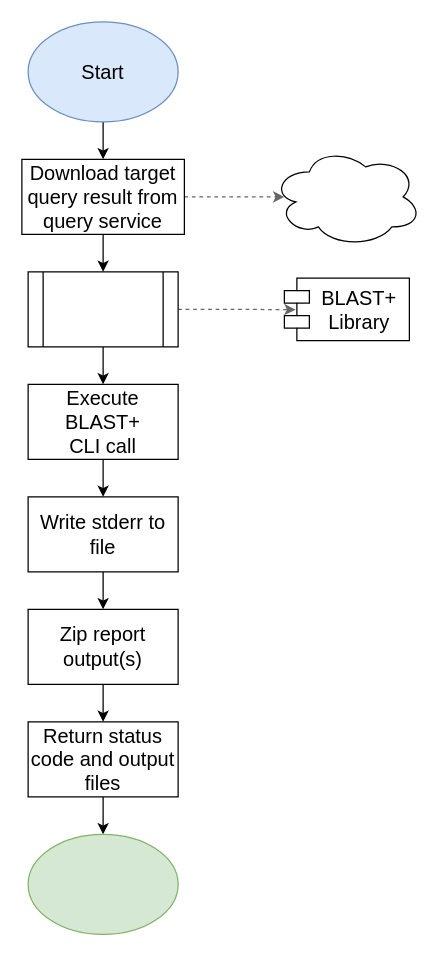
Some shapes in this 444 by 956 pixel diagram are drawn without their labels. Here are the shapes that lost their labels. From the top down, the centre of each, then its label:
[346,196]: Query Service
[102,309]: Translate job config to CLI call
[102,883]: End
